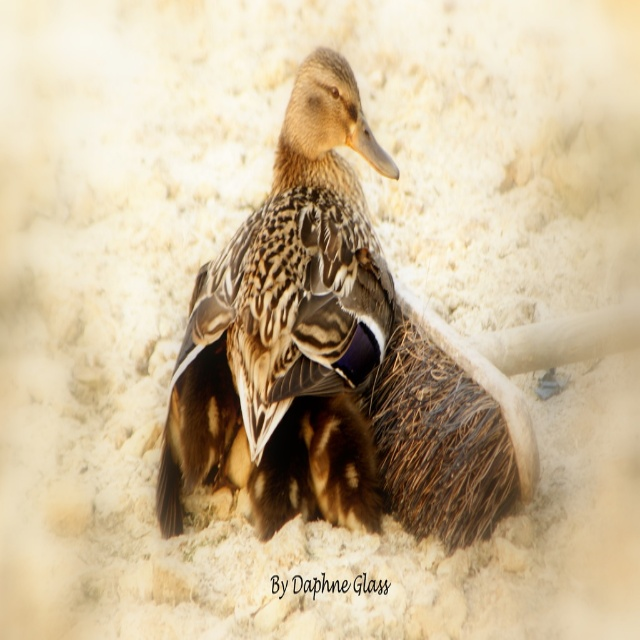Duck: (160, 41, 442, 525)
